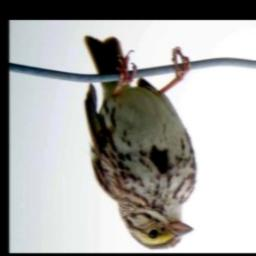Sparrow: (80, 36, 197, 251)
